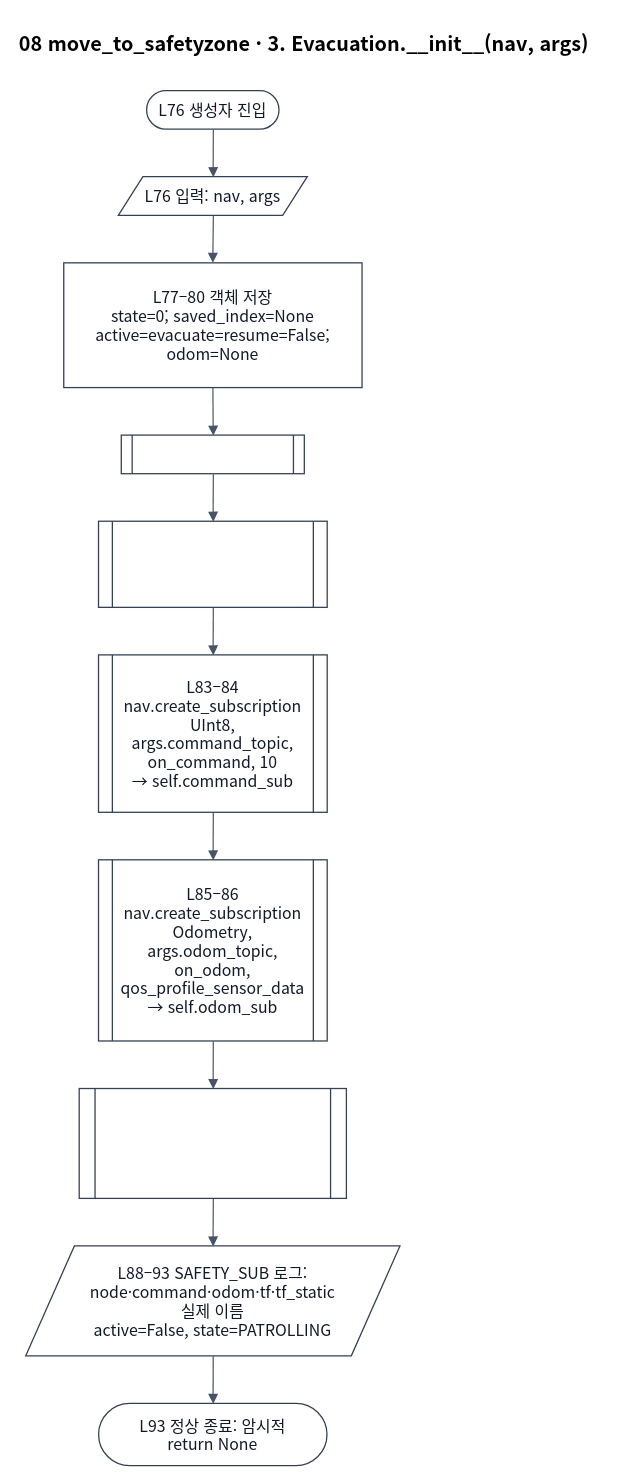
Image size: 628x1483. Some labels were removed from this diagram. The shapes that lost their labels are listed below. From the top down, each one's box as (x1, y1, x2, y2) in pixels, then its label:
(120, 434, 305, 474): L81 Buffer() → self.tf
(97, 520, 327, 608): L82 TransformListener(self.tf, nav) → self.listener
(78, 1087, 347, 1199): L87 args.safe의 각 x,y,yaw에 nav.getPoseStamped([x,y],yaw) 호출 결과 목록 → self.safe
